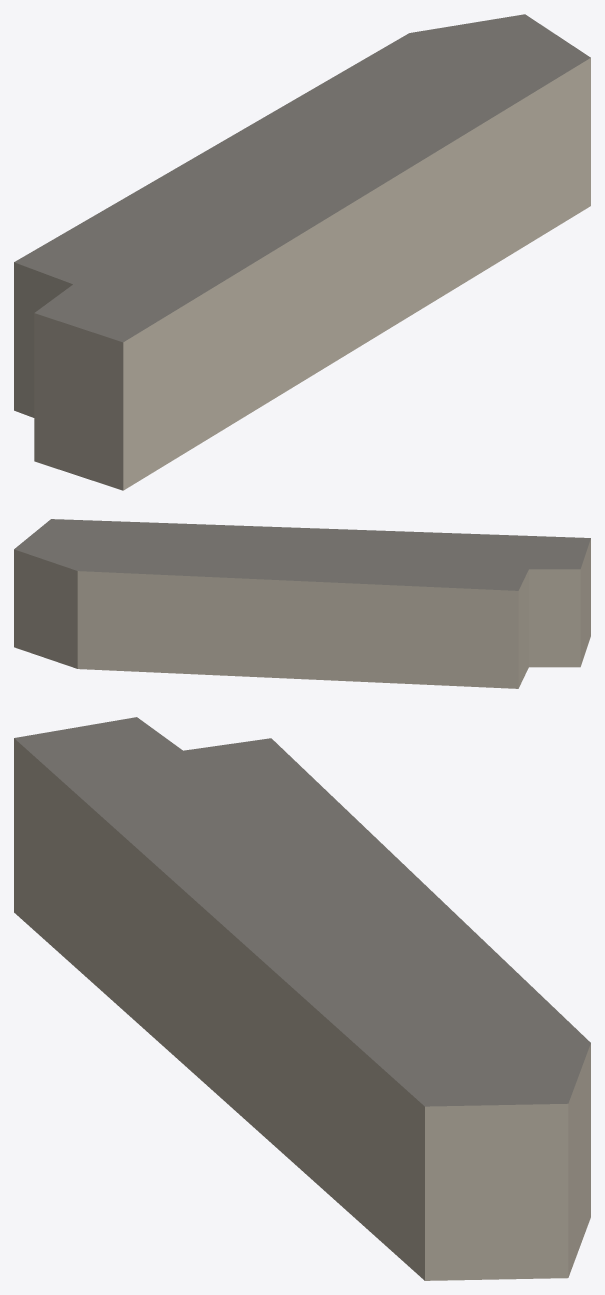
3 views of the same model, one above another, from view 1: azimuth 30°, elevation 25°; view 2: azimuth 150°, elevation 25°; view 3: azimuth 270°, elevation 25° (orthographic). The views are drawn at different scales.
Visible parts, largest first — view 1: HP-w494956474; view 2: HP-w494956474; view 3: HP-w494956474.
Part boxes in pixels (<box>): HP-w494956474: <box>14,14,590,490</box>; HP-w494956474: <box>14,519,590,688</box>; HP-w494956474: <box>14,717,590,1280</box>.
Size of the model in its own units: 71.87 by 15 by 44.99.
